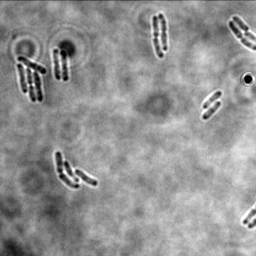Dividing: (227, 20, 255, 51), (152, 14, 165, 59), (158, 12, 168, 52), (52, 48, 62, 82)
Microcolony: (53, 150, 99, 190), (16, 55, 48, 104)
Rod: (201, 90, 223, 109), (202, 100, 221, 121), (60, 50, 70, 82), (232, 15, 250, 32)
